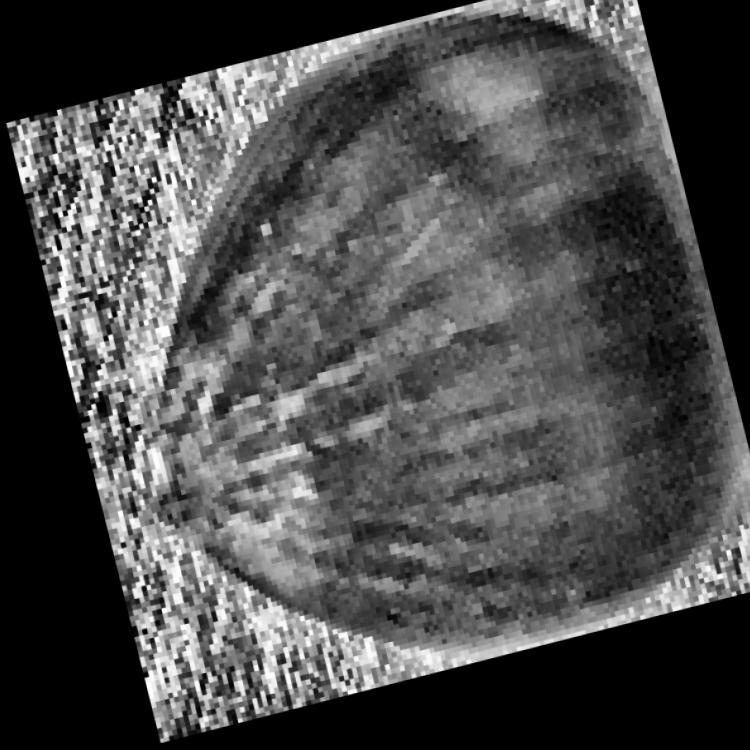damagedHazelnut: (4, 0, 750, 749)
